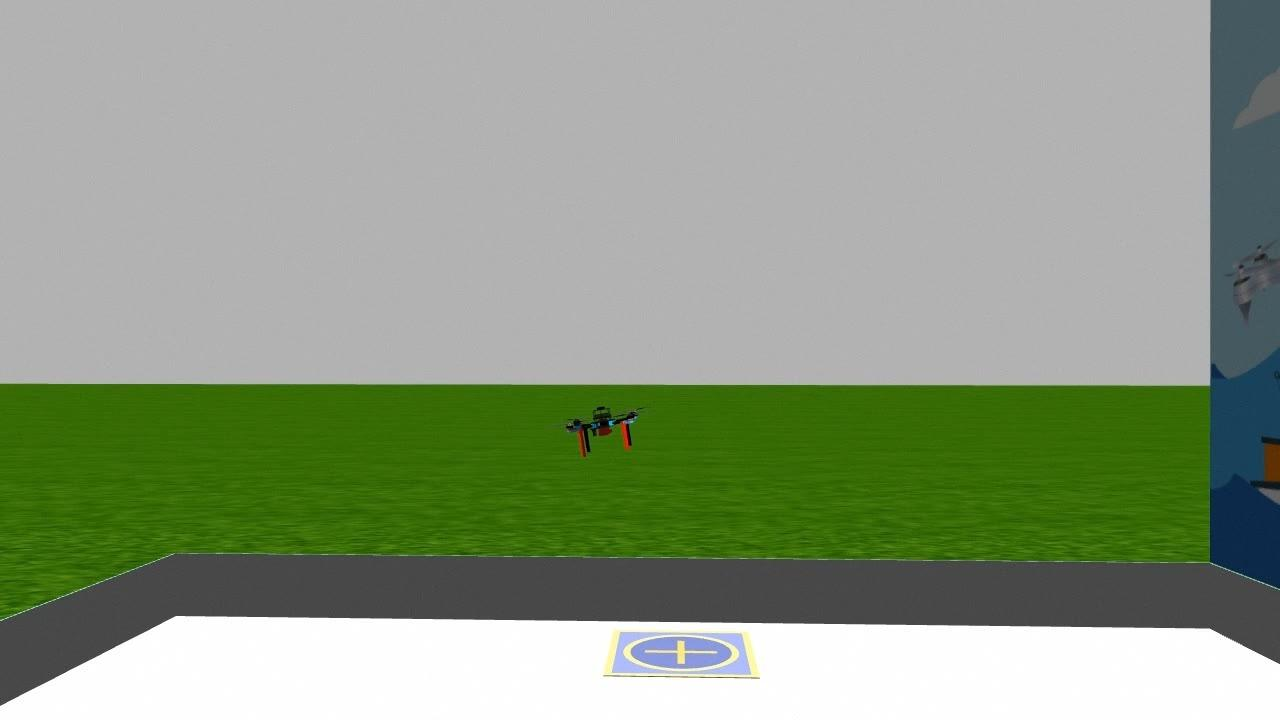UAV: (560, 400, 650, 460)
